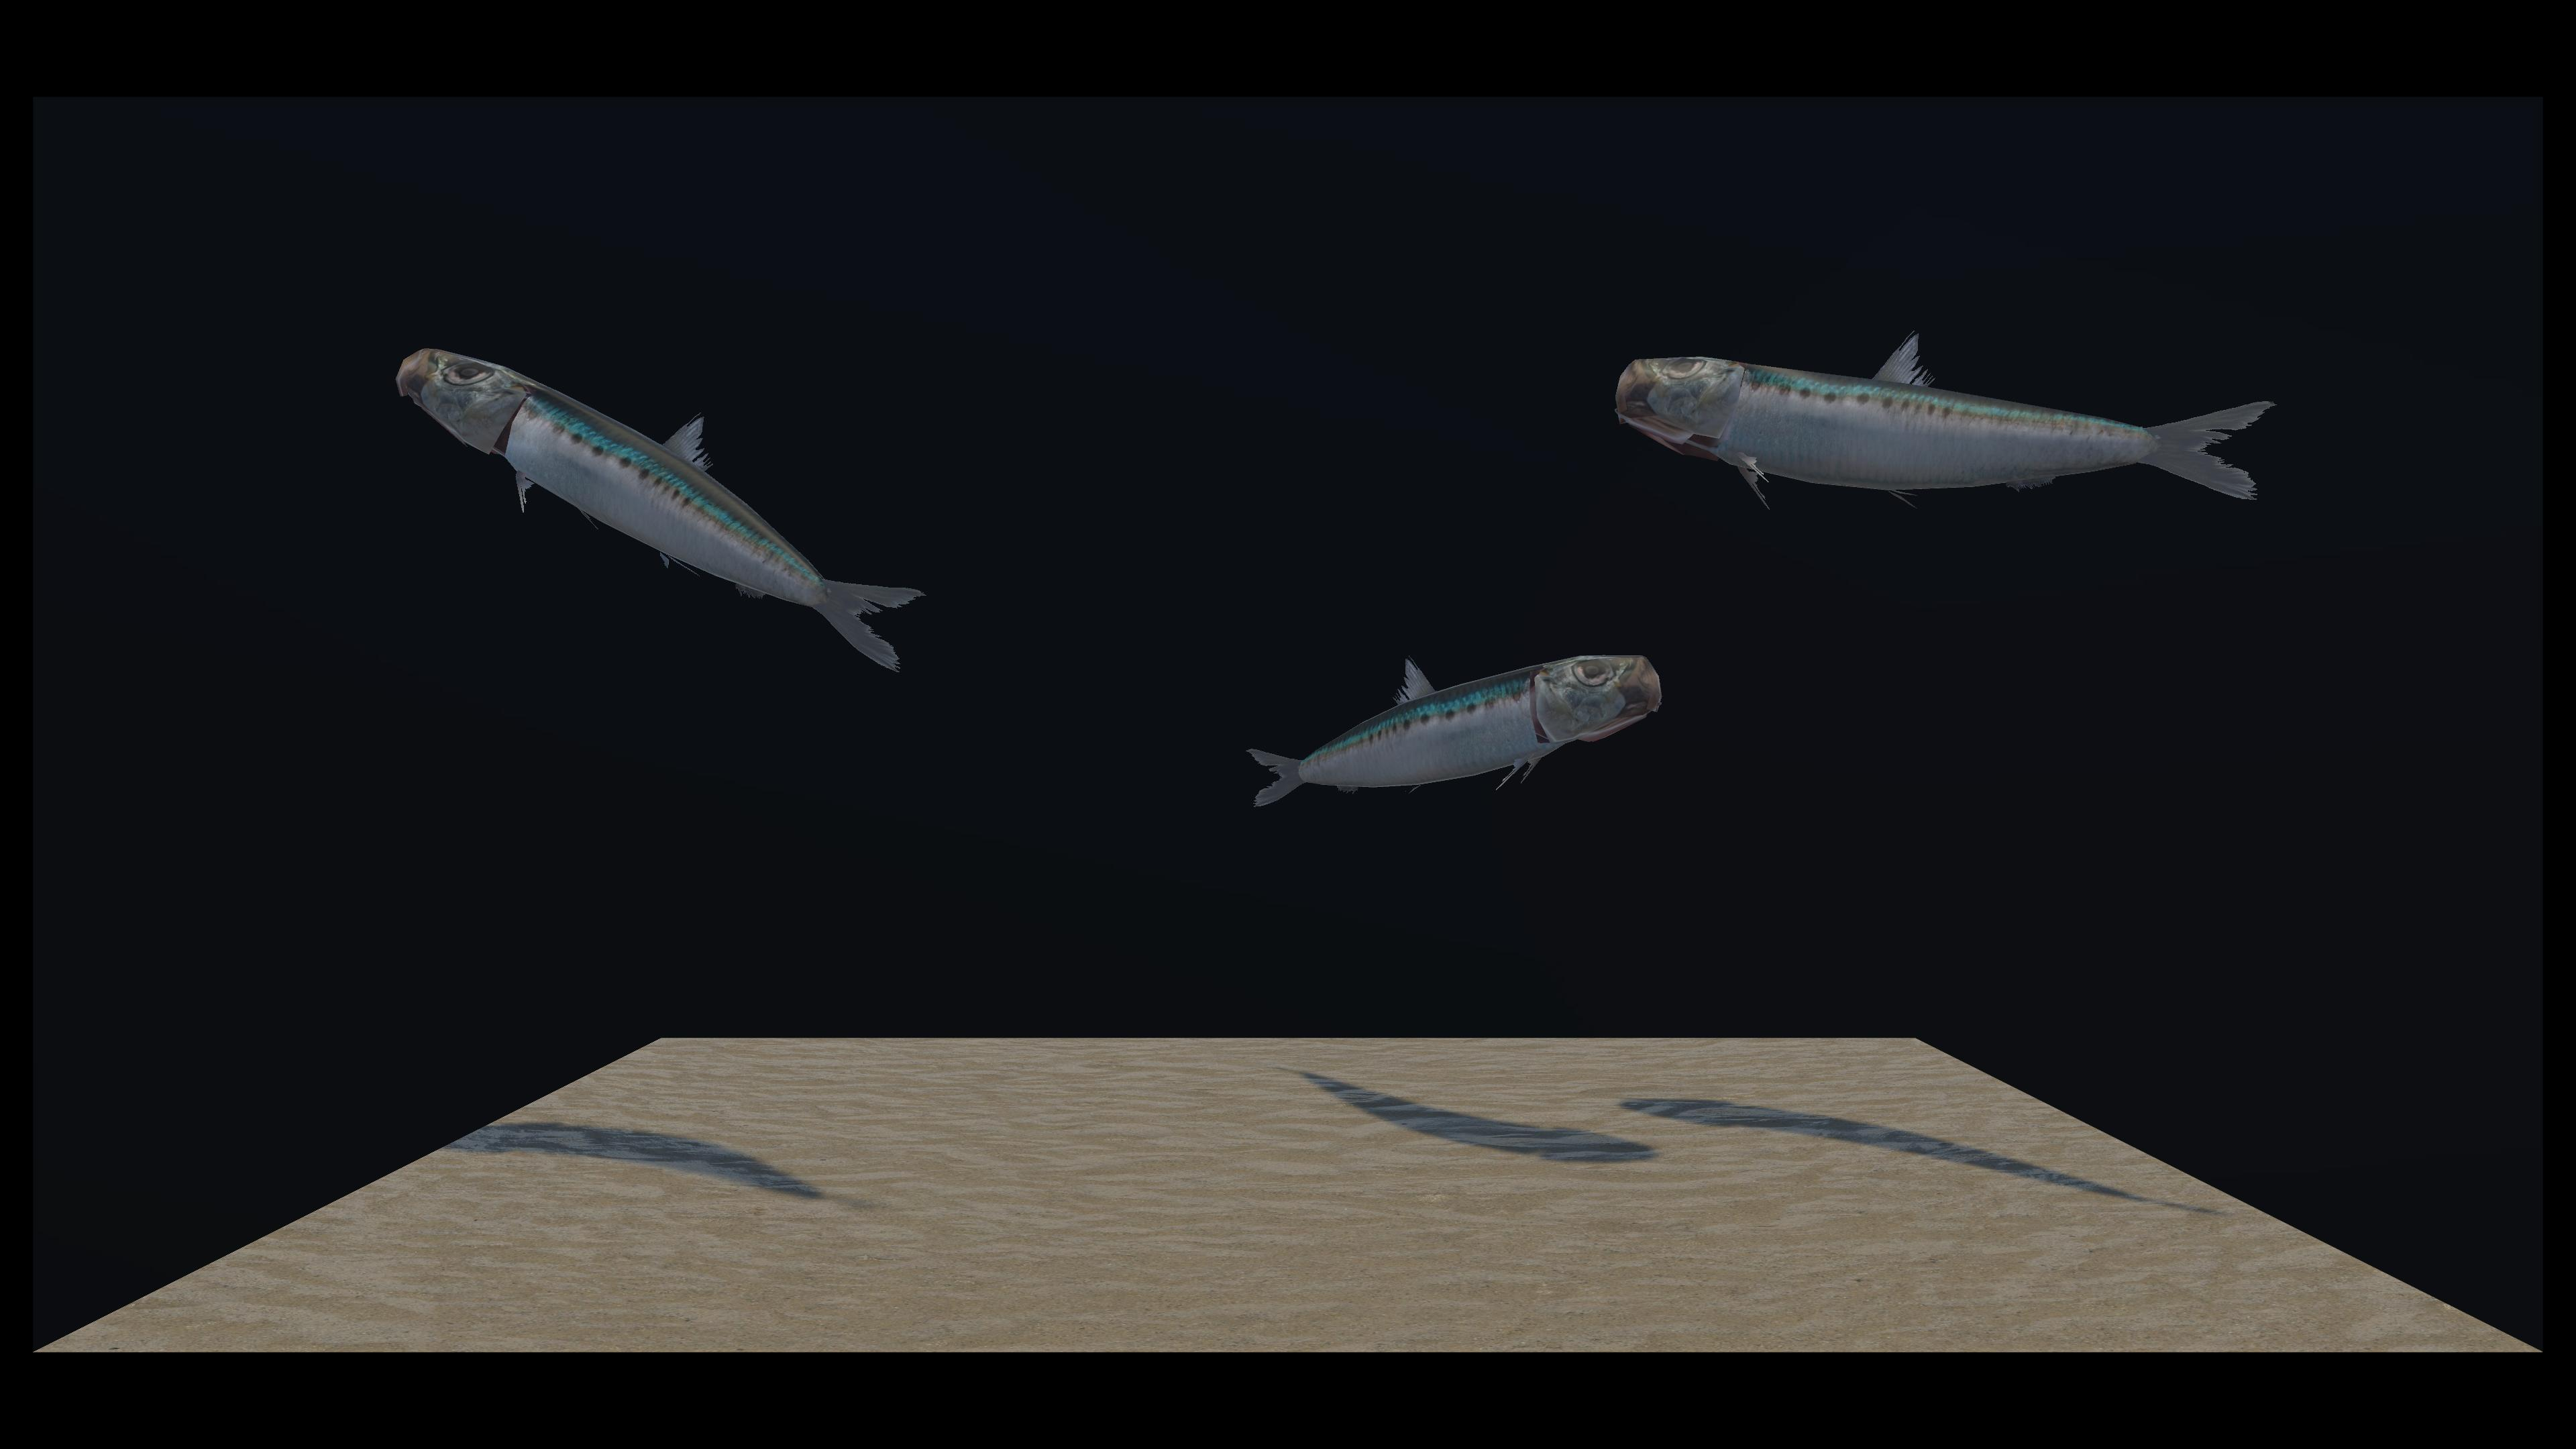Sardine_Front: (690, 377, 1640, 809), (899, 345, 2266, 536), (441, 350, 915, 667)
